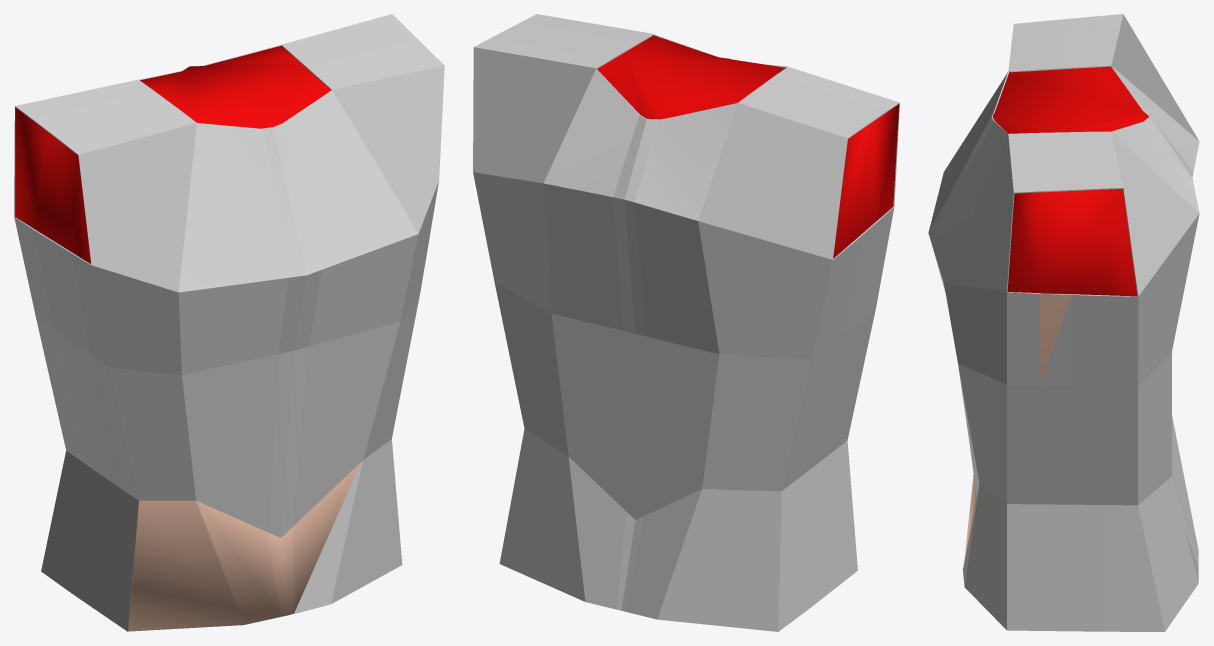
File: Torso.glb
The picture shows the model from 3 angles, left to right: view 1: azimuth 30°, elevation 25°; view 2: azimuth 150°, elevation 25°; view 3: azimuth 270°, elevation 25°; orthographic projection. The views are drawn at different scales.
Visible parts, largest first — view 1: t-shert, character; view 2: t-shert, character; view 3: t-shert, character.
Boxes of the visible parts, x1,y1,x2,y2 form: t-shert: (14,14,444,631); character: (15,46,360,631); t-shert: (473,14,899,631); character: (597,35,899,258); t-shert: (928,14,1199,631); character: (964,66,1149,560).
Bounding box in the file's own units: 3.43 × 4.31 × 2.26.
